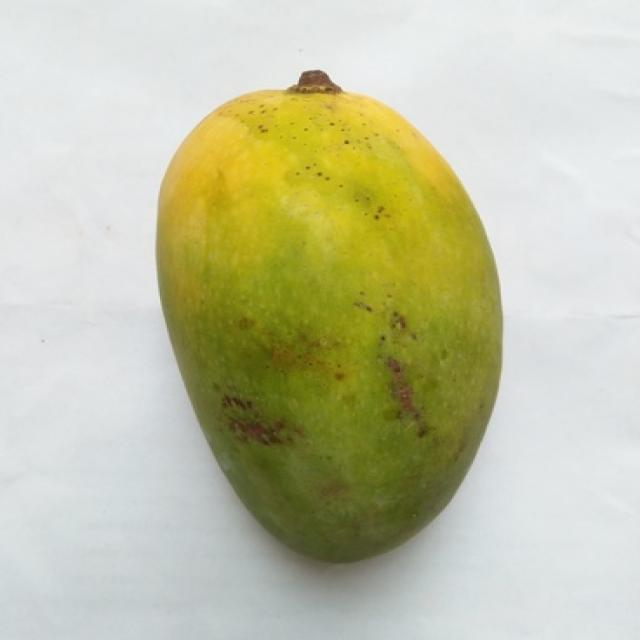Mango: (157, 71, 499, 562)
